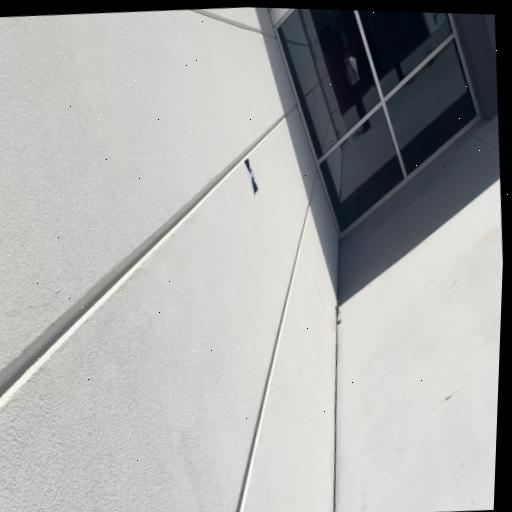target7: (244, 158, 259, 194)
